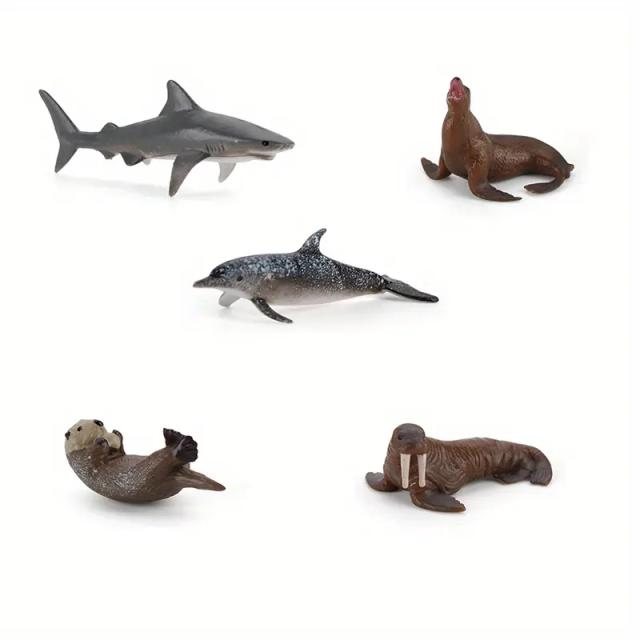walrus: (354, 413, 572, 531)
